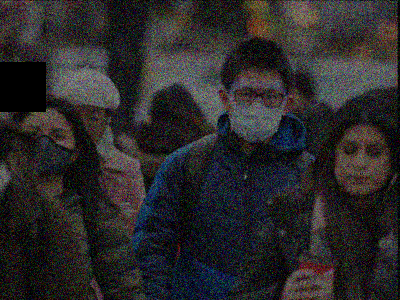with_mask: (228, 76, 287, 144), (19, 121, 74, 181)
without_mask: (332, 135, 392, 198), (75, 105, 108, 149)
